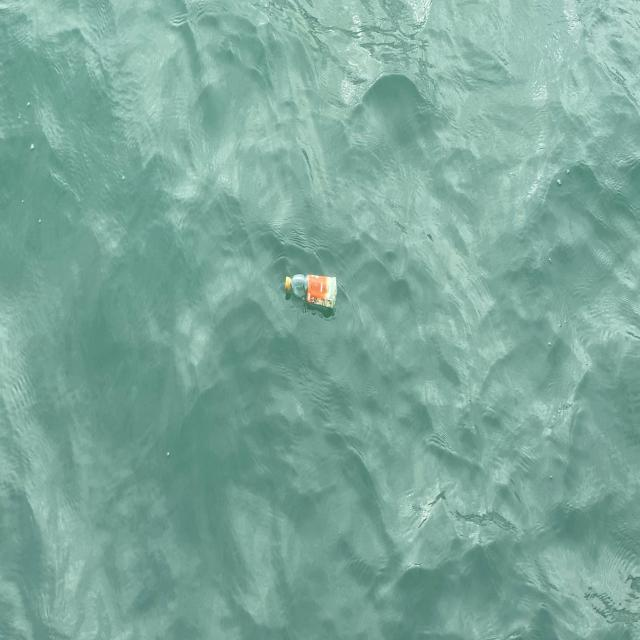Botol Plastik: (280, 264, 343, 319)
